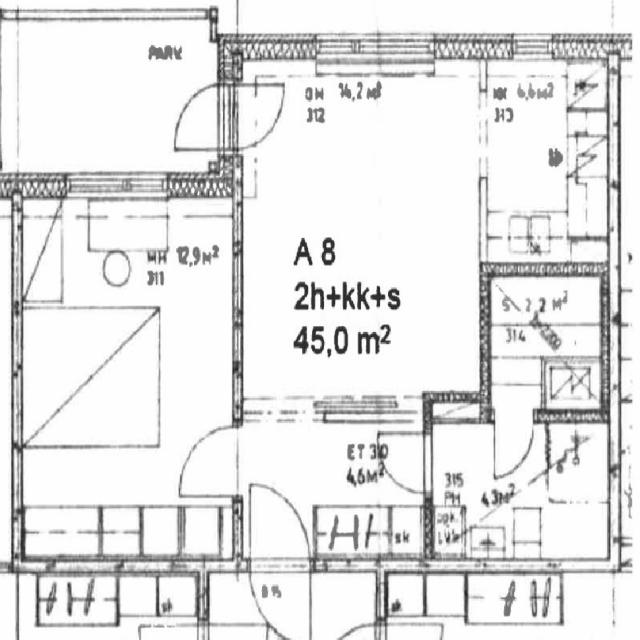door: (250, 483, 310, 573), (250, 559, 309, 640), (166, 84, 238, 150), (217, 84, 288, 150), (178, 426, 244, 497), (378, 433, 432, 492), (494, 408, 534, 475)
